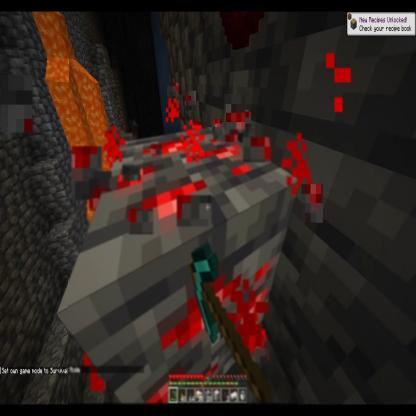redstone ore: (68, 128, 298, 406)
